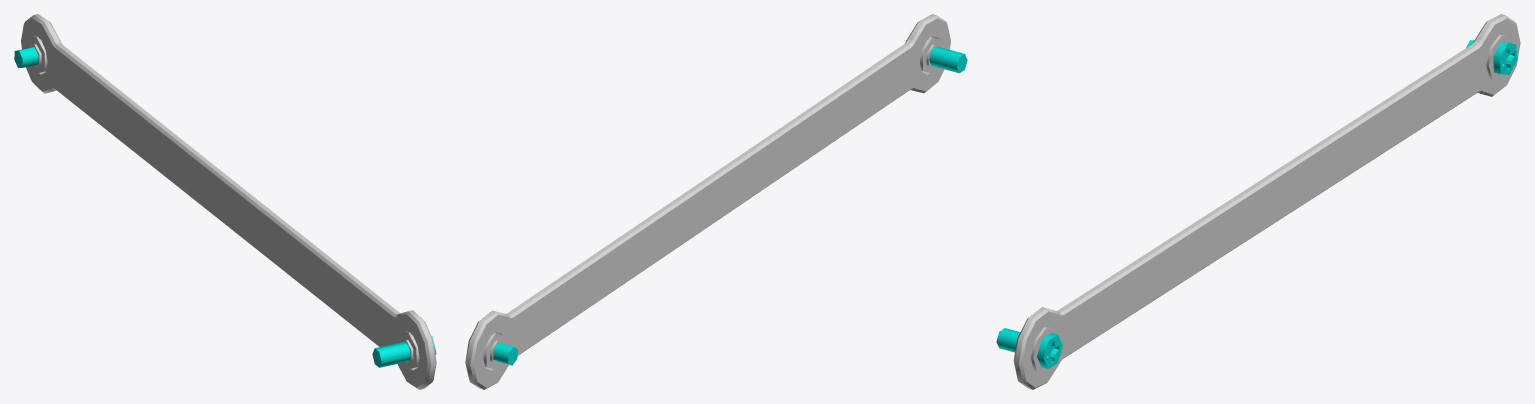
Rendered from forearm_aux.dae.
The picture shows the model from 3 angles, left to right: view 1: azimuth 30°, elevation 25°; view 2: azimuth 150°, elevation 25°; view 3: azimuth 330°, elevation 25°; orthographic projection. The views are drawn at different scales.
Parts seen in each view (by area): view 1: __001; view 2: __001; view 3: __001.
Part boxes in pixels (x1,y1,x2,y2): __001: (14,14,436,389); __001: (465,14,967,389); __001: (996,14,1520,389).
Size of the model in its own units: 19.03 by 176 by 17.3.
